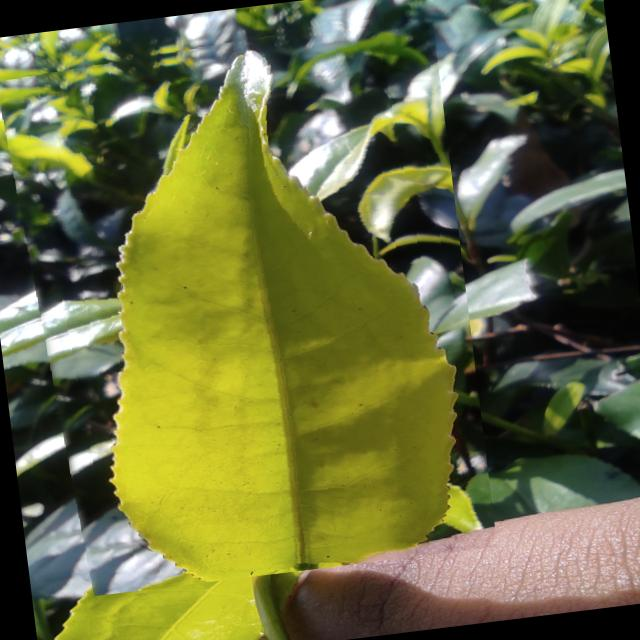Category C(4-7 days): (0, 8, 497, 600)
